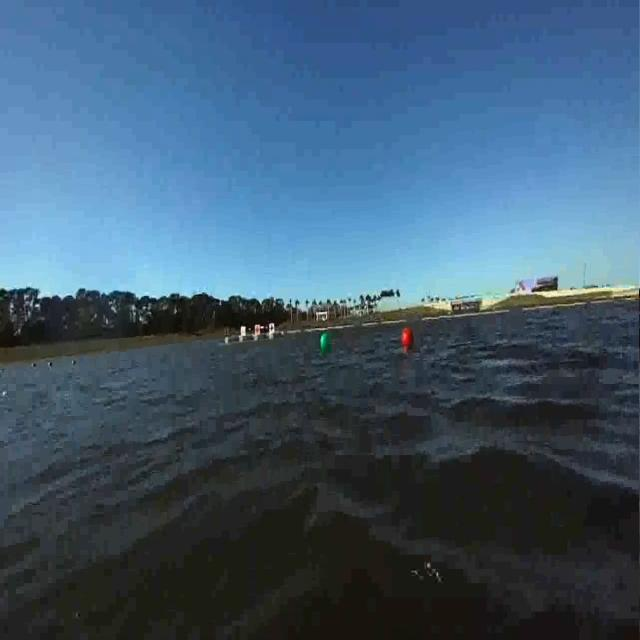green-buoy: (323, 334, 332, 352)
red-buoy: (404, 329, 414, 347)
